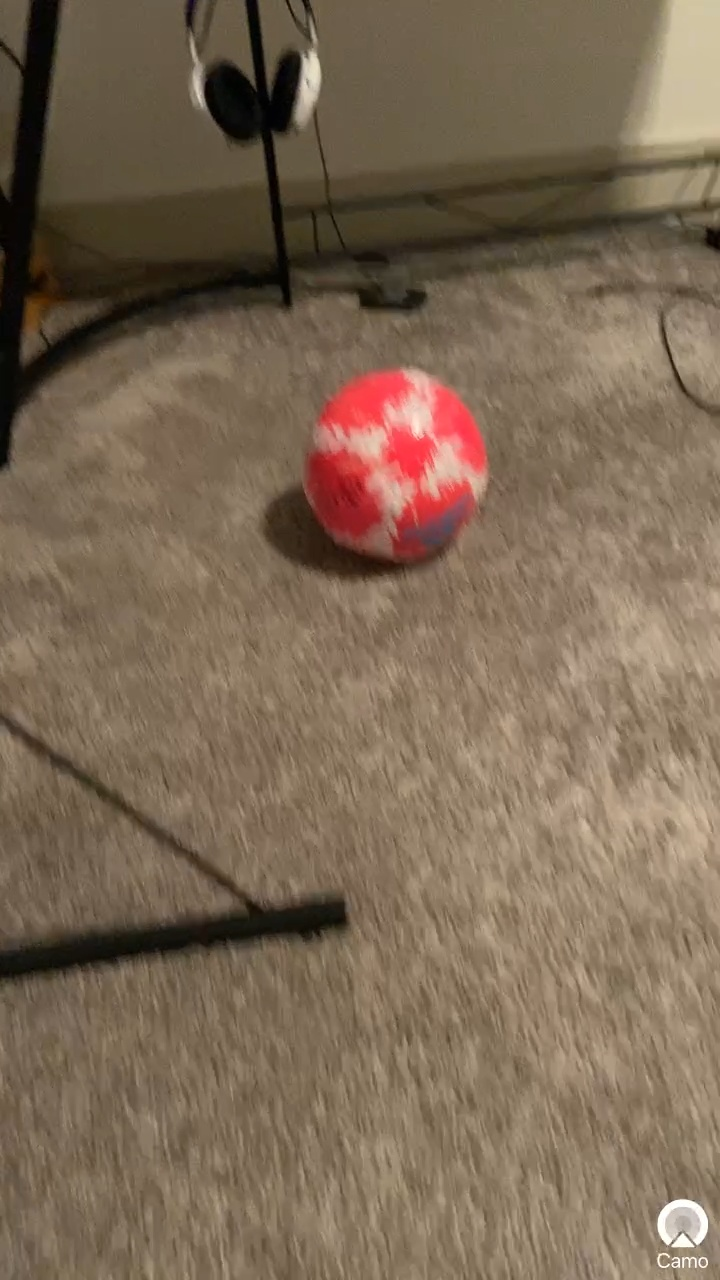Soccer_Ball: (279, 345, 512, 623)
